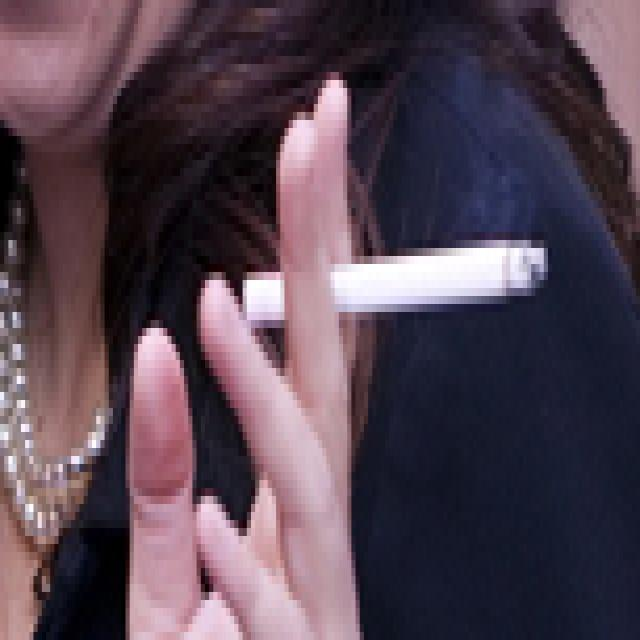smoking: (243, 240, 546, 327)
